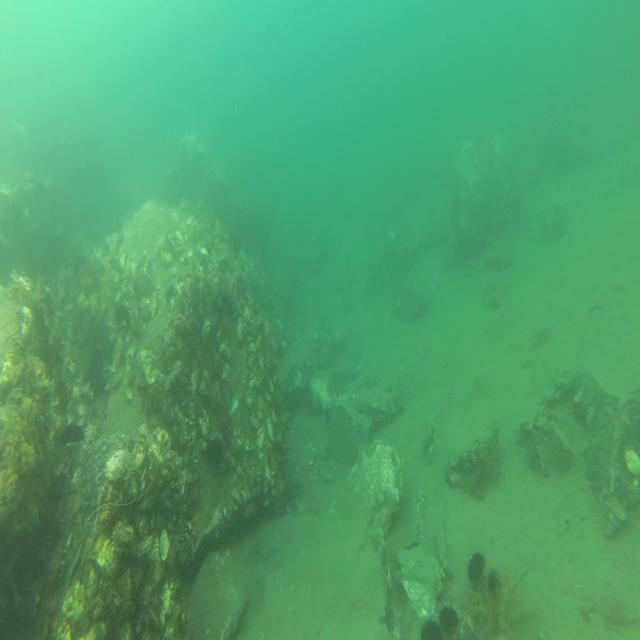echinus: (466, 552, 485, 584), (60, 424, 89, 444), (438, 605, 458, 633), (206, 436, 223, 468), (421, 617, 440, 640), (115, 305, 130, 327), (489, 573, 498, 591)
